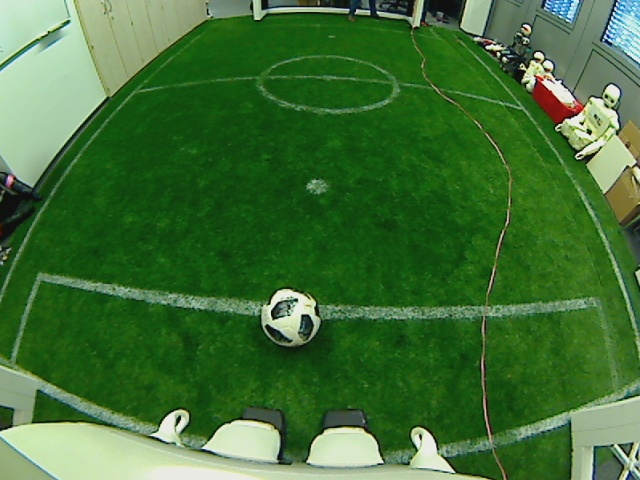ball: (257, 286, 323, 351)
